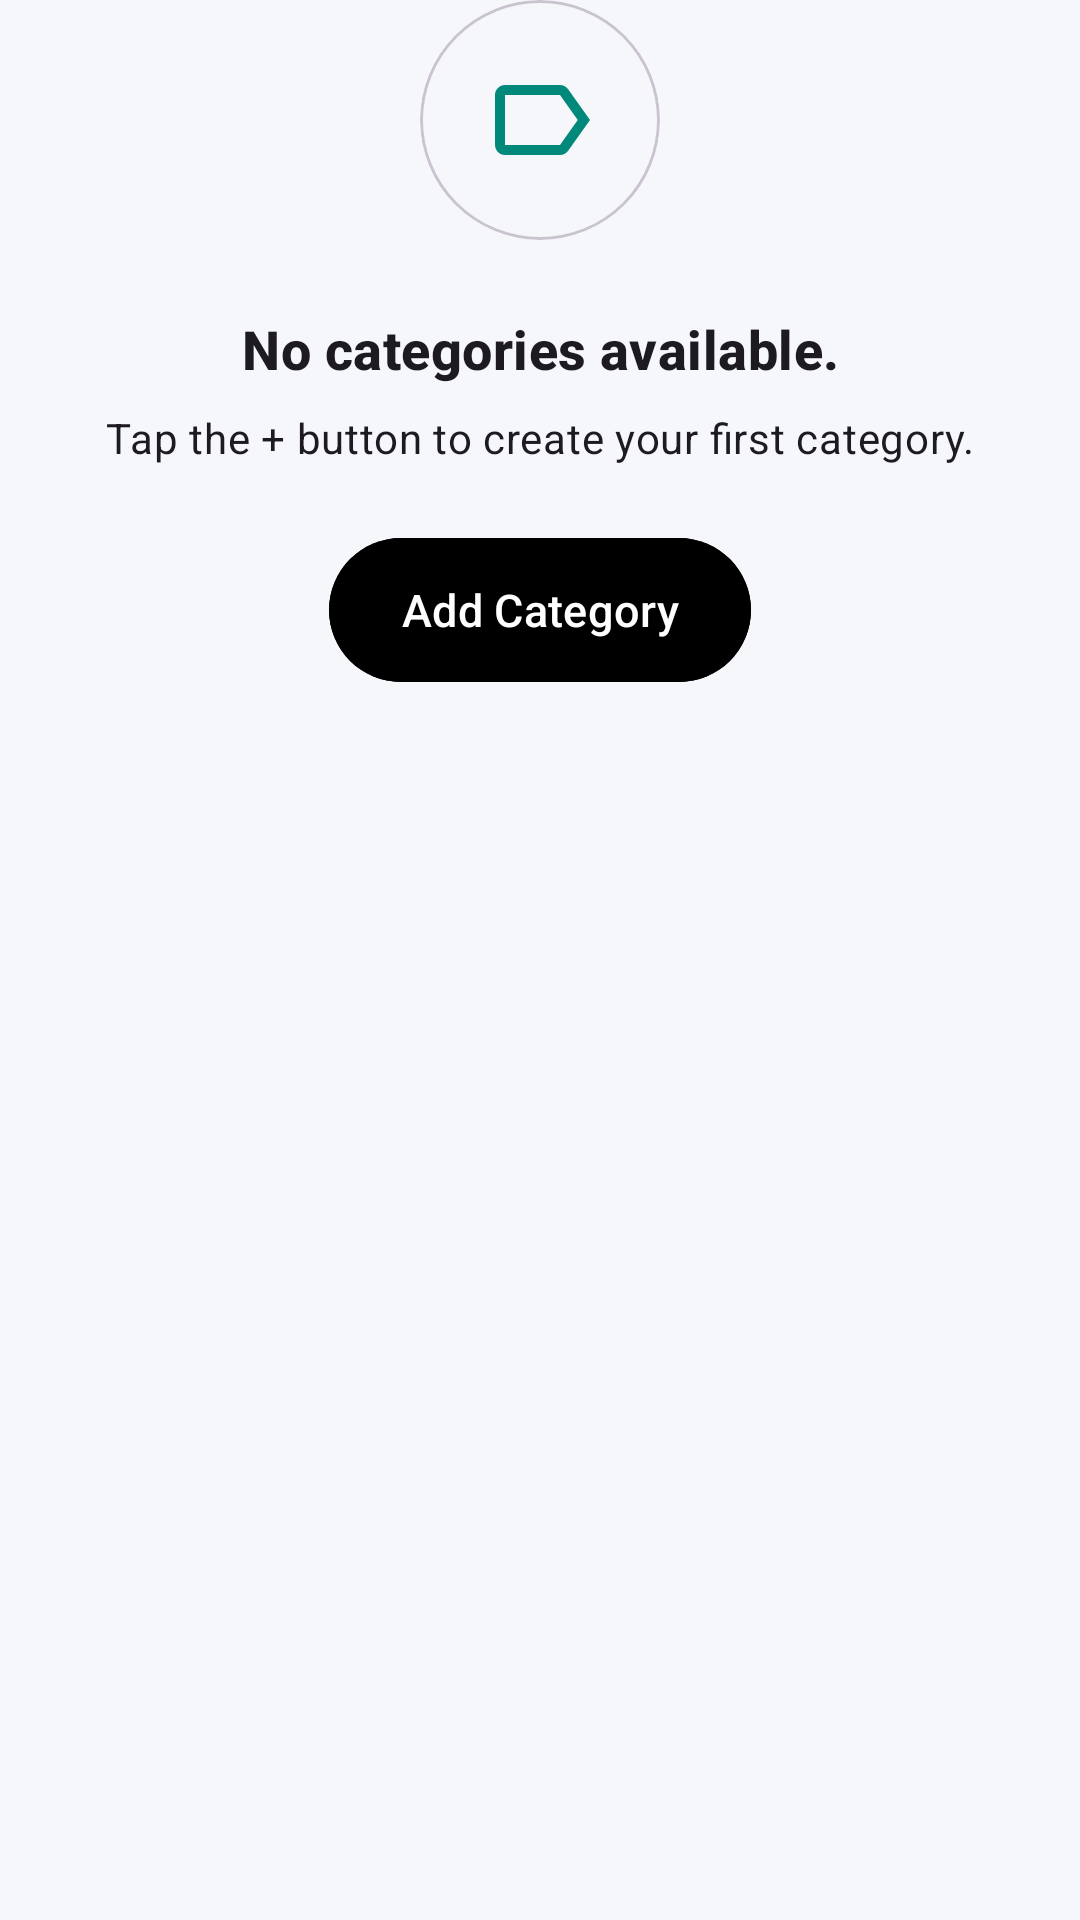

Icon click points for this 1080px x 1920px phone screenshot, format [x,y]:
Empty state illustration: [542,120]
